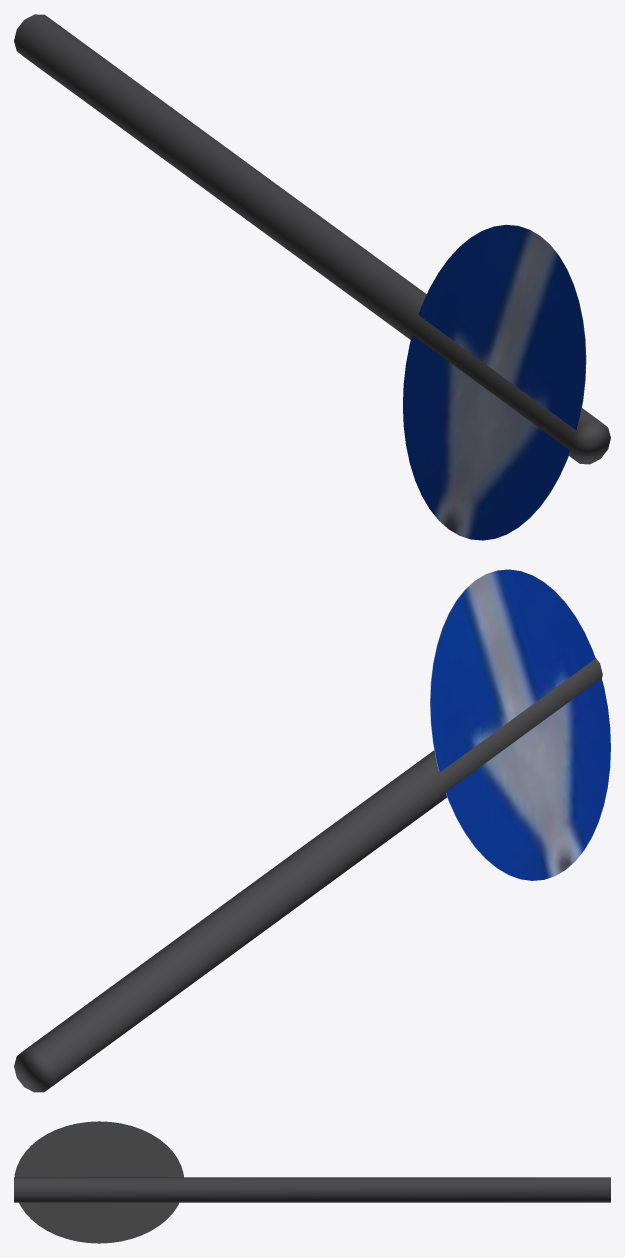
The model's file is sign_0.glb.
3 views of the same model, one above another, from view 1: azimuth 30°, elevation 25°; view 2: azimuth 150°, elevation 25°; view 3: azimuth 270°, elevation 25° (orthographic). The views are drawn at different scales.
Visible parts, largest first — view 1: sign_0; view 2: sign_0; view 3: sign_0.
Part boxes in pixels (box(x1,y1,x2,y2)): sign_0: box(14, 14, 610, 540); sign_0: box(14, 569, 610, 1092); sign_0: box(14, 1121, 610, 1243).
Bounding box in the file's own units: 0.00343 × 0.00972 × 0.0361.
Materials: 3 (1 with a texture image).
